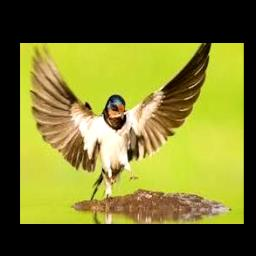Swallow: (31, 43, 212, 199)
